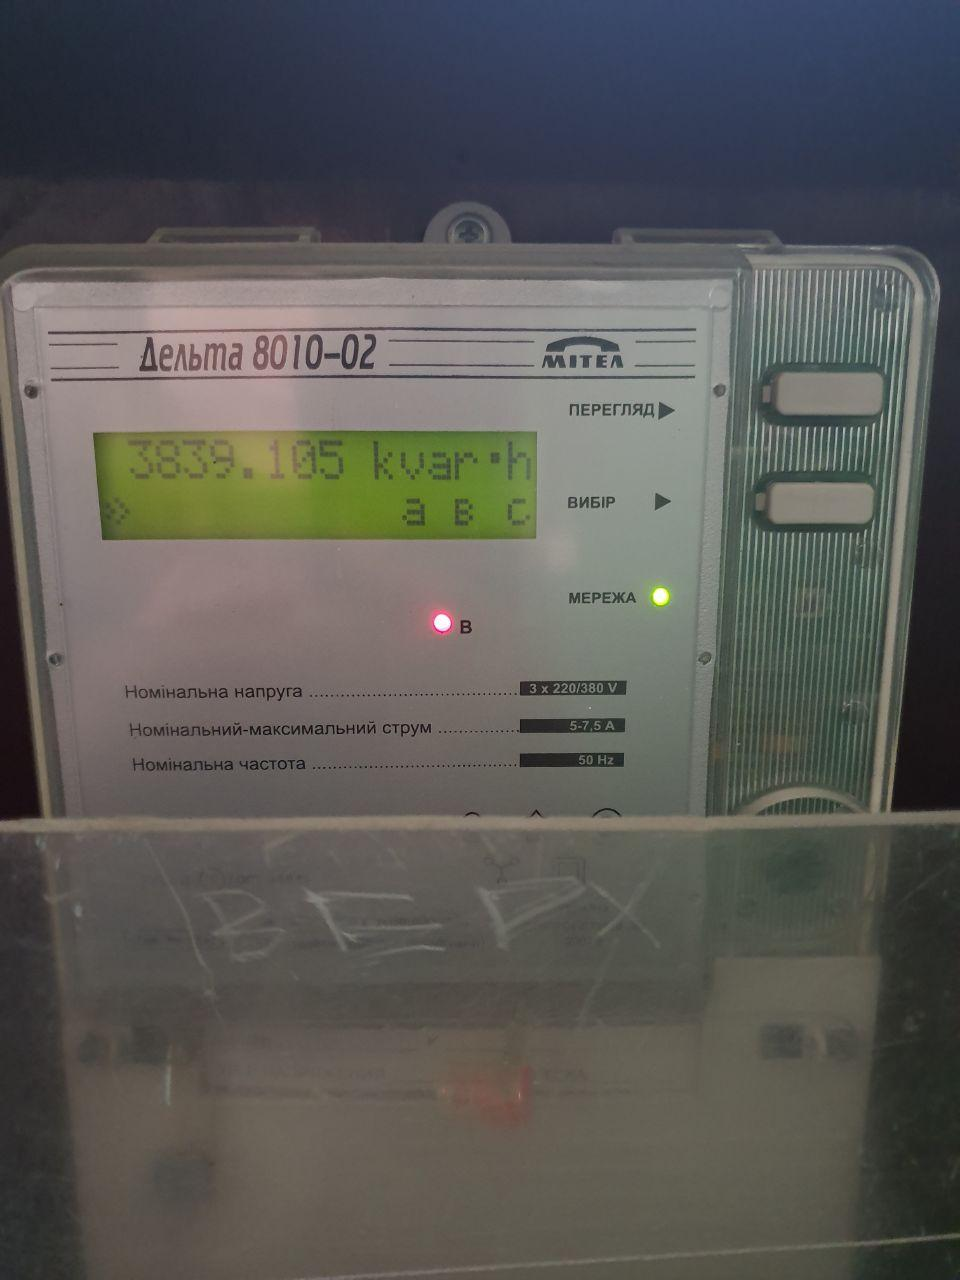counter: (4, 225, 944, 1165)
counter_screen: (86, 425, 542, 544)
